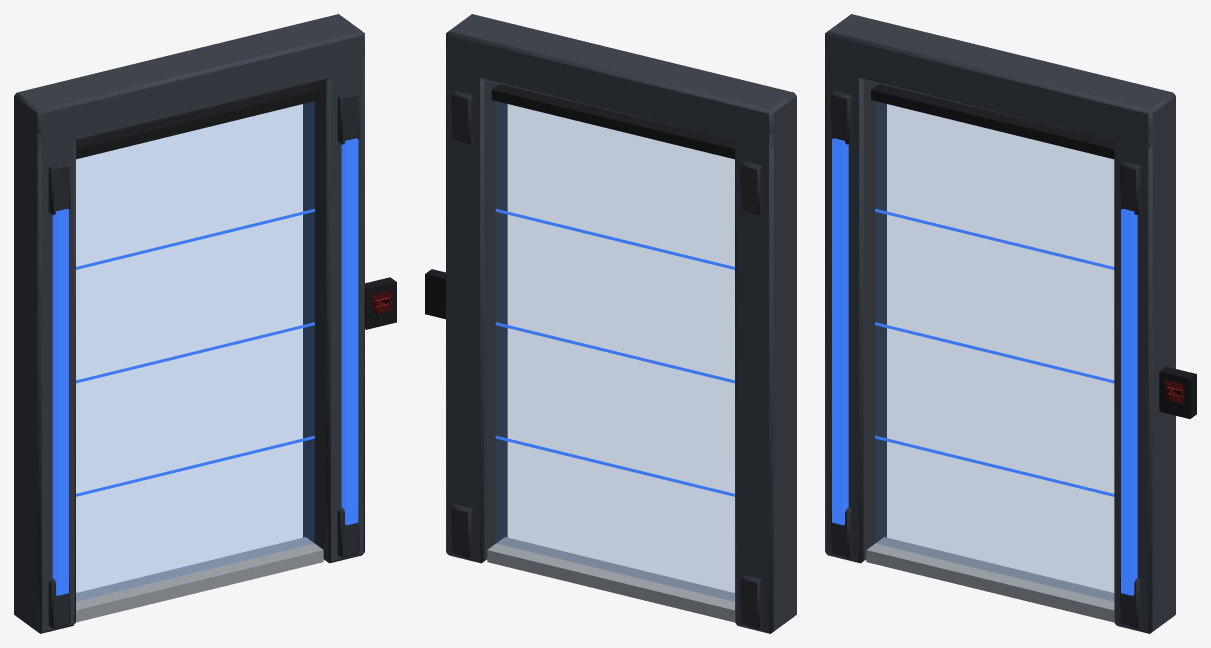
The model's file is cell_door_forcefield.glb.
3 renders of one model, left to right at view 1: azimuth 30°, elevation 25°; view 2: azimuth 150°, elevation 25°; view 3: azimuth 330°, elevation 25°, orthographic.
Visible parts, largest first — view 1: cell_door_forcefield; view 2: cell_door_forcefield; view 3: cell_door_forcefield.
Part boxes in pixels (x1,y1,x2,y2): cell_door_forcefield: [14, 14, 396, 633]; cell_door_forcefield: [425, 14, 796, 633]; cell_door_forcefield: [825, 14, 1196, 633].
Bounding box in the file's own units: 1.88 × 2.6 × 0.315.
7 materials, 1 textured.
